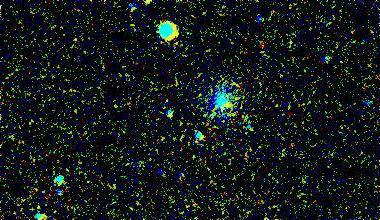star: (212, 88, 242, 118)
